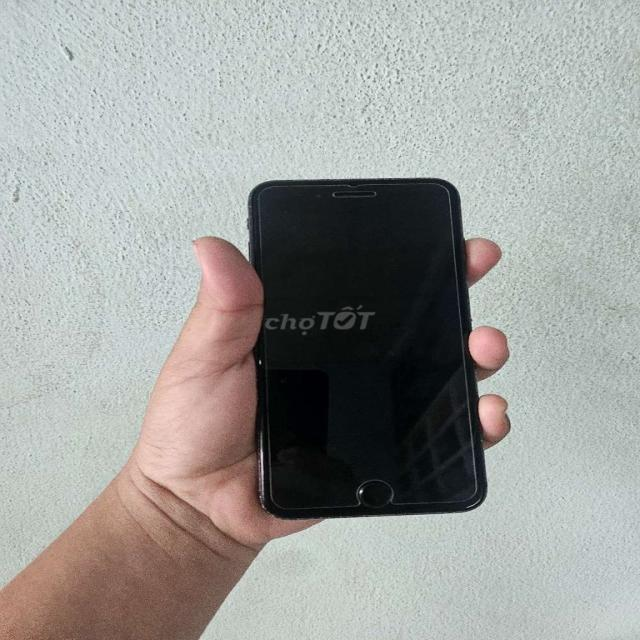gen_7_8: (239, 168, 491, 523)
scratch: (266, 176, 446, 188), (263, 508, 473, 518), (252, 432, 271, 511), (242, 183, 258, 261), (252, 354, 263, 366), (353, 484, 366, 494), (384, 493, 396, 501)
